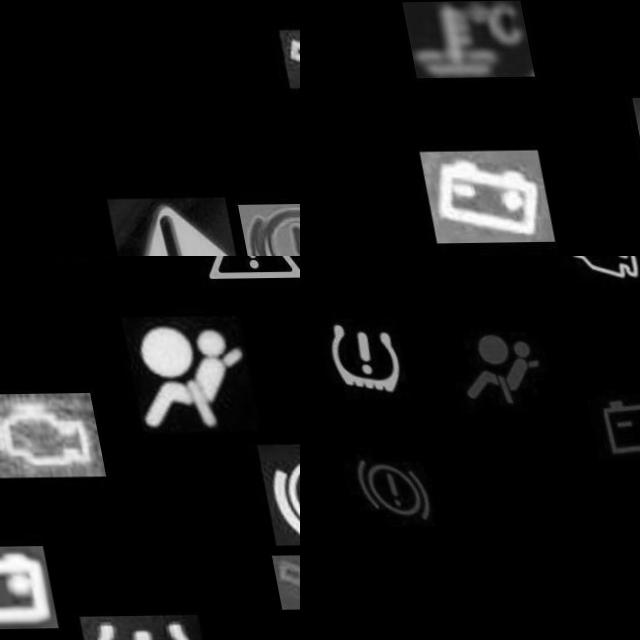Central Warning lamp: (86, 197, 222, 256), (175, 256, 300, 298)
Engine cooling system: (391, 1, 521, 79)
